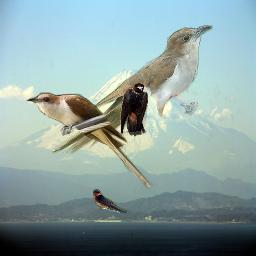Cuckoo: (51, 25, 213, 155), (26, 92, 154, 190)
Swallow: (120, 83, 148, 137), (93, 189, 127, 213)
